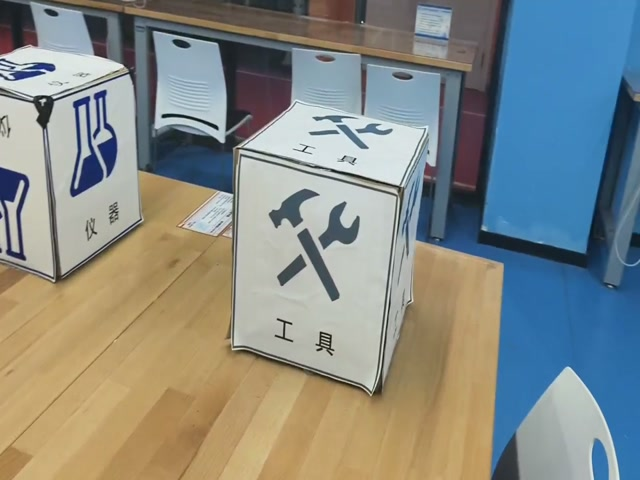Cube_ins: (0, 46, 125, 104)
Cube_tool: (235, 102, 427, 181)
